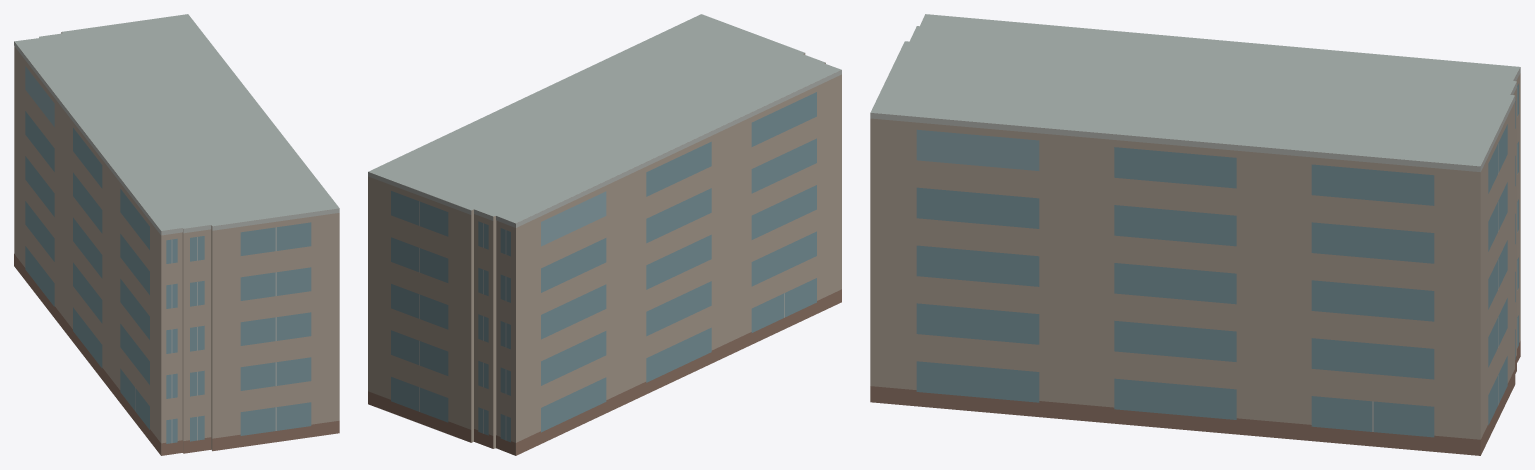
The model's file is survey-upis-32991507.glb.
3 renders of one model, left to right at view 1: azimuth 30°, elevation 25°; view 2: azimuth 150°, elevation 25°; view 3: azimuth 270°, elevation 25°, orthographic. The views are drawn at different scales.
Parts seen in each view (by area): view 1: survey-upis-32991507.tmp; view 2: survey-upis-32991507.tmp; view 3: survey-upis-32991507.tmp.
Part boxes in pixels (left/top/right/bottom): survey-upis-32991507.tmp: left=14, top=14, right=339, bottom=455; survey-upis-32991507.tmp: left=368, top=14, right=841, bottom=455; survey-upis-32991507.tmp: left=870, top=14, right=1520, bottom=455.
Size of the model in its own units: 13.96 by 12.35 by 25.16.
